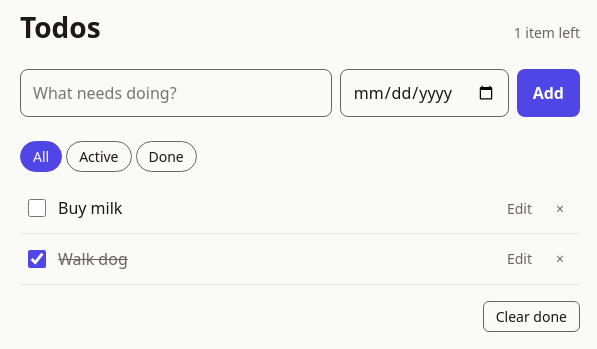
it: App › filters and count › filters by Active and Done and marks the selected button
Expected: the text "Buy milk" is shown, top-left (58, 196), bottom-right (122, 220)
Click the button "Active" at {"x": 99, "y": 156}, box top-left (66, 141), bottom-right (132, 172)
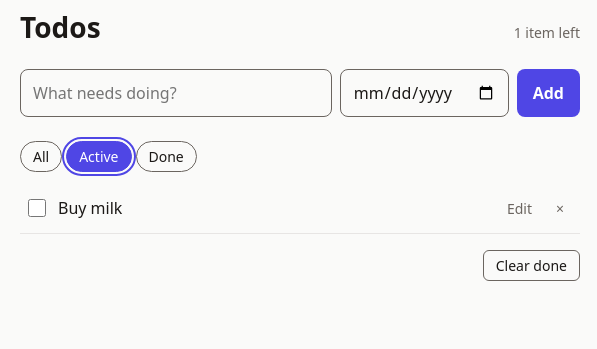
Expected: the text "Buy milk" is shown, top-left (58, 196), bottom-right (122, 220)
Result: the text "Walk dog" is gone
Click the button "Done" at {"x": 166, "y": 156}, box top-left (136, 141), bottom-right (197, 172)
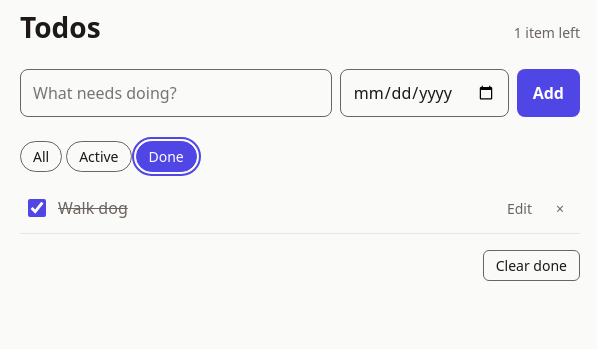
Result: the text "Buy milk" is gone
Result: the text "Walk dog" is shown at top-left (58, 196), bottom-right (128, 220)
Click the button "All" at {"x": 41, "y": 156}, box top-left (20, 141), bottom-right (62, 172)
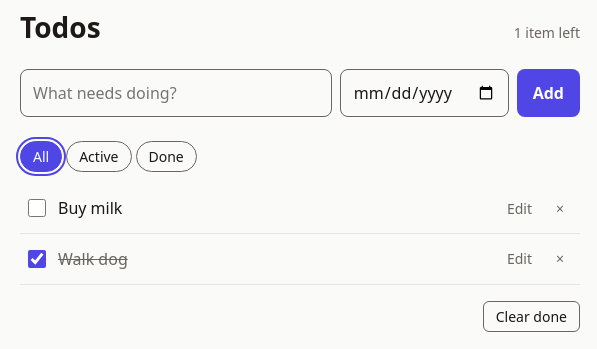
Result: the text "Walk dog" is shown at top-left (58, 247), bottom-right (128, 271)
Result: the text "Buy milk" is shown at top-left (58, 196), bottom-right (122, 220)
